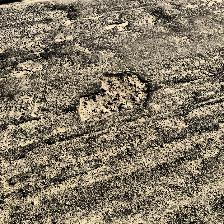pothole: (76, 68, 150, 120), (105, 20, 131, 30)
